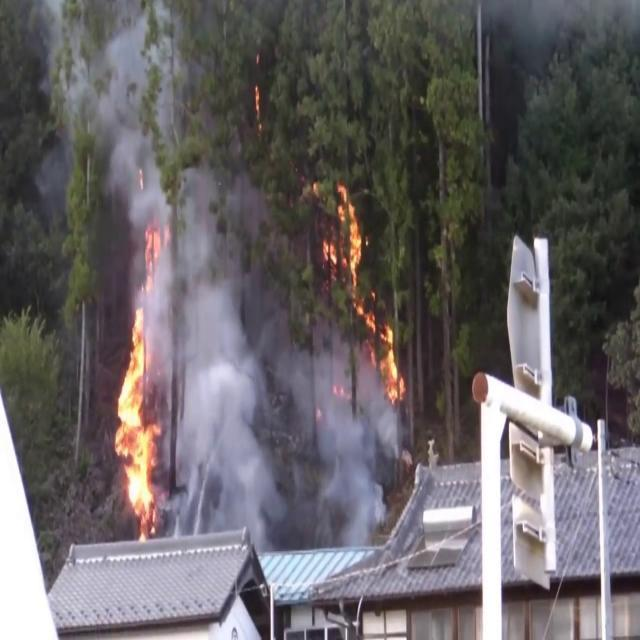Fire: (109, 291, 164, 534), (331, 185, 373, 306), (376, 310, 407, 410)
Smoke: (178, 188, 284, 540), (45, 0, 195, 227), (278, 326, 408, 546)
